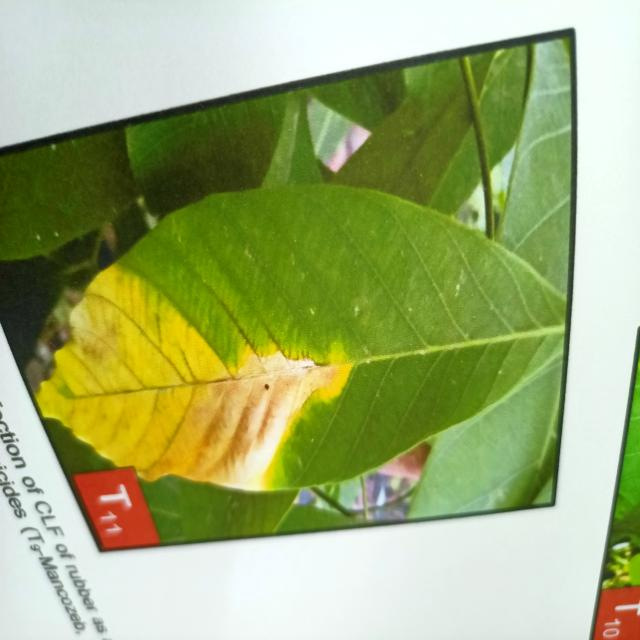Corynespora: (222, 302, 261, 360), (264, 324, 286, 358)
Leaf-Blight: (35, 261, 353, 492)
